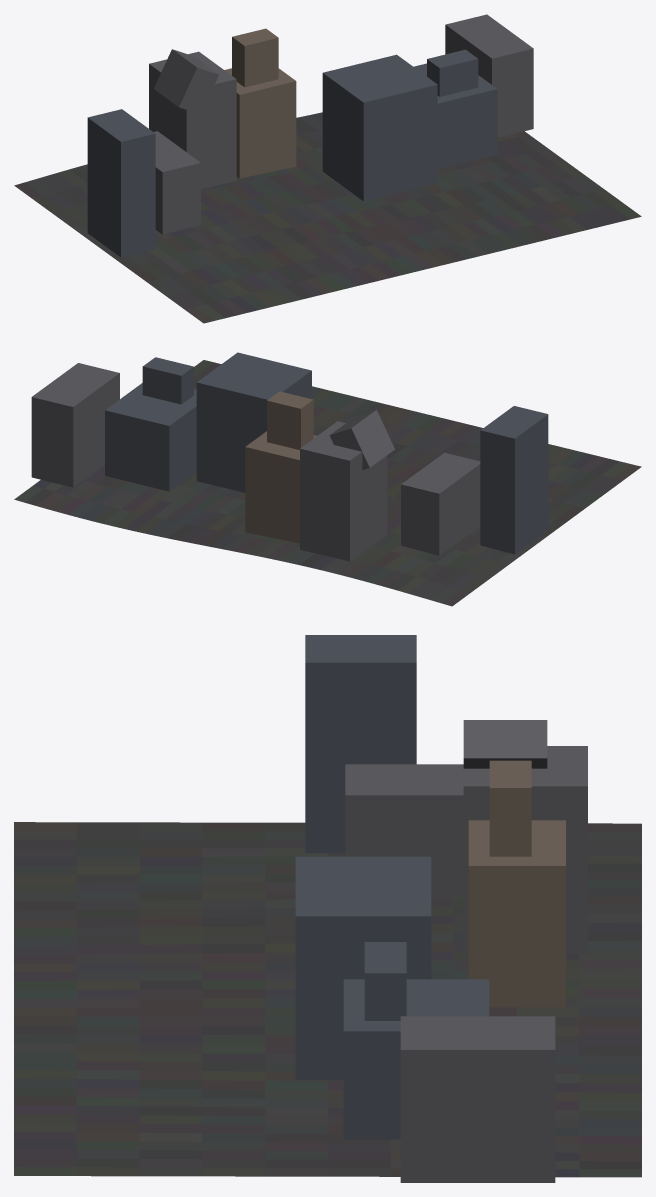
File: bg_city_ridge_1_idle.glb
3 renders of one model, top to bottom at view 1: azimuth 30°, elevation 25°; view 2: azimuth 150°, elevation 25°; view 3: azimuth 270°, elevation 25°, orthographic. The views are drawn at different scales.
Visible parts, largest first — view 1: ridge; view 2: ridge; view 3: ridge.
Boxes of the visible parts, x1,y1,x2,y2 form: ridge: (14, 14, 641, 323); ridge: (14, 352, 641, 606); ridge: (14, 635, 641, 1182).
Size of the model in its own units: 40.79 by 11.4 by 30.
